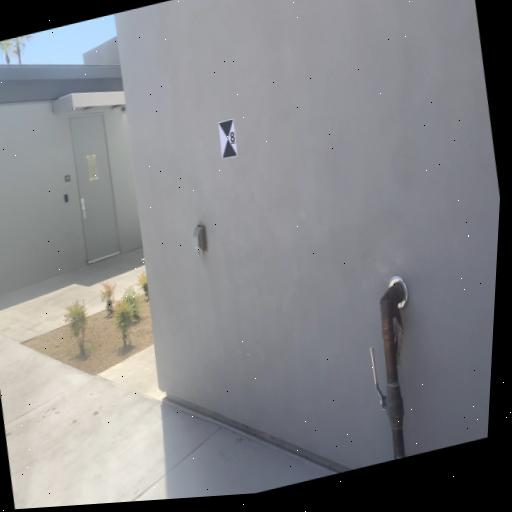target8: (216, 116, 240, 160)
